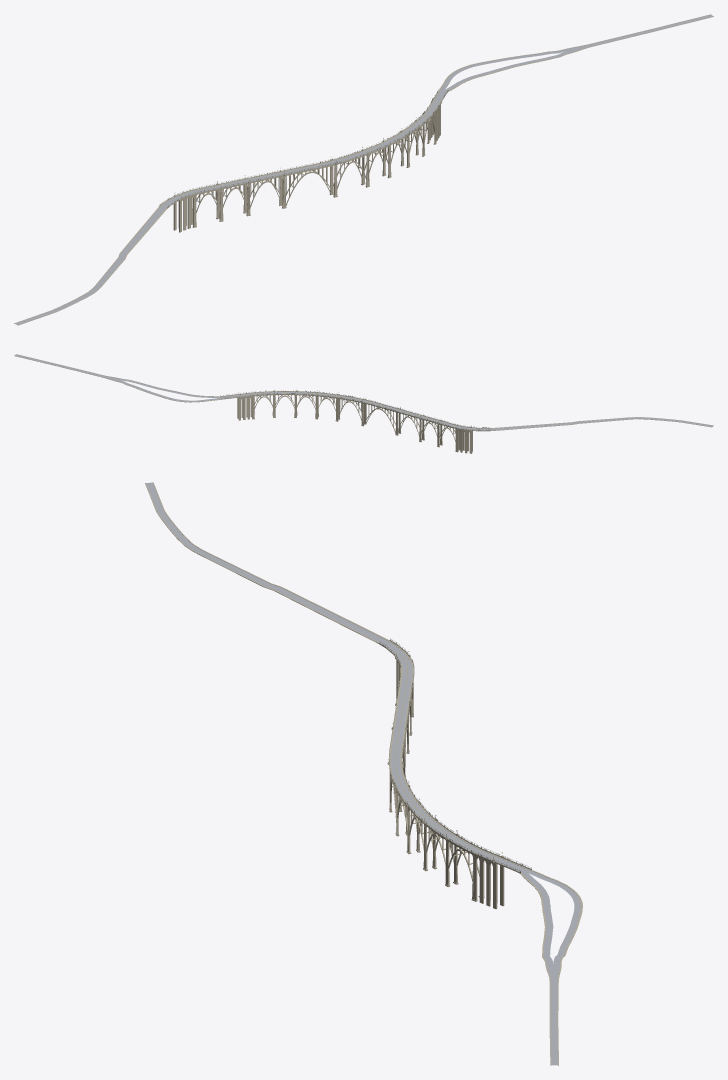
File: colorado-street-bridge-near.glb
3 renders of one model, top to bottom at view 1: azimuth 30°, elevation 25°; view 2: azimuth 150°, elevation 25°; view 3: azimuth 270°, elevation 25°, orthographic. The views are drawn at different scales.
Visible parts, largest first — view 1: colorado-street-bridge-1-substructure, colorado-street-bridge-2-asphalt, colorado-street-bridge-1-asphalt, colorado-street-bridge-1-concrete, colorado-street-bridge-0-asphalt, colorado-street-bridge-2-concrete, colorado-street-bridge-0-concrete; view 2: colorado-street-bridge-1-substructure, colorado-street-bridge-2-asphalt, colorado-street-bridge-1-concrete, colorado-street-bridge-1-asphalt, colorado-street-bridge-0-asphalt, colorado-street-bridge-0-concrete, colorado-street-bridge-2-concrete, colorado-street-bridge-1-iron; view 3: colorado-street-bridge-1-substructure, colorado-street-bridge-2-asphalt, colorado-street-bridge-1-asphalt, colorado-street-bridge-0-asphalt, colorado-street-bridge-1-concrete, colorado-street-bridge-0-concrete, colorado-street-bridge-2-concrete.
Boxes of the visible parts, x1,y1,x2,y2 form: colorado-street-bridge-1-substructure: [186, 104, 440, 228]; colorado-street-bridge-2-asphalt: [434, 14, 712, 101]; colorado-street-bridge-1-asphalt: [180, 101, 439, 196]; colorado-street-bridge-1-concrete: [179, 100, 441, 197]; colorado-street-bridge-0-asphalt: [15, 195, 184, 324]; colorado-street-bridge-2-concrete: [433, 14, 713, 101]; colorado-street-bridge-0-concrete: [14, 194, 185, 325]; colorado-street-bridge-1-substructure: [237, 395, 464, 452]; colorado-street-bridge-2-asphalt: [14, 354, 237, 401]; colorado-street-bridge-1-concrete: [237, 391, 467, 430]; colorado-street-bridge-1-asphalt: [237, 392, 467, 429]; colorado-street-bridge-0-asphalt: [466, 417, 713, 430]; colorado-street-bridge-0-concrete: [466, 417, 713, 431]; colorado-street-bridge-2-concrete: [14, 354, 238, 402]; colorado-street-bridge-1-iron: [237, 390, 465, 429]; colorado-street-bridge-1-substructure: [389, 666, 504, 909]; colorado-street-bridge-2-asphalt: [498, 859, 581, 1065]; colorado-street-bridge-1-asphalt: [390, 660, 503, 862]; colorado-street-bridge-0-asphalt: [146, 482, 409, 661]; colorado-street-bridge-1-concrete: [387, 659, 504, 863]; colorado-street-bridge-0-concrete: [145, 482, 410, 661]; colorado-street-bridge-2-concrete: [496, 858, 582, 1065].
Bounding box in the file's own units: 1197 × 50.95 × 380.
